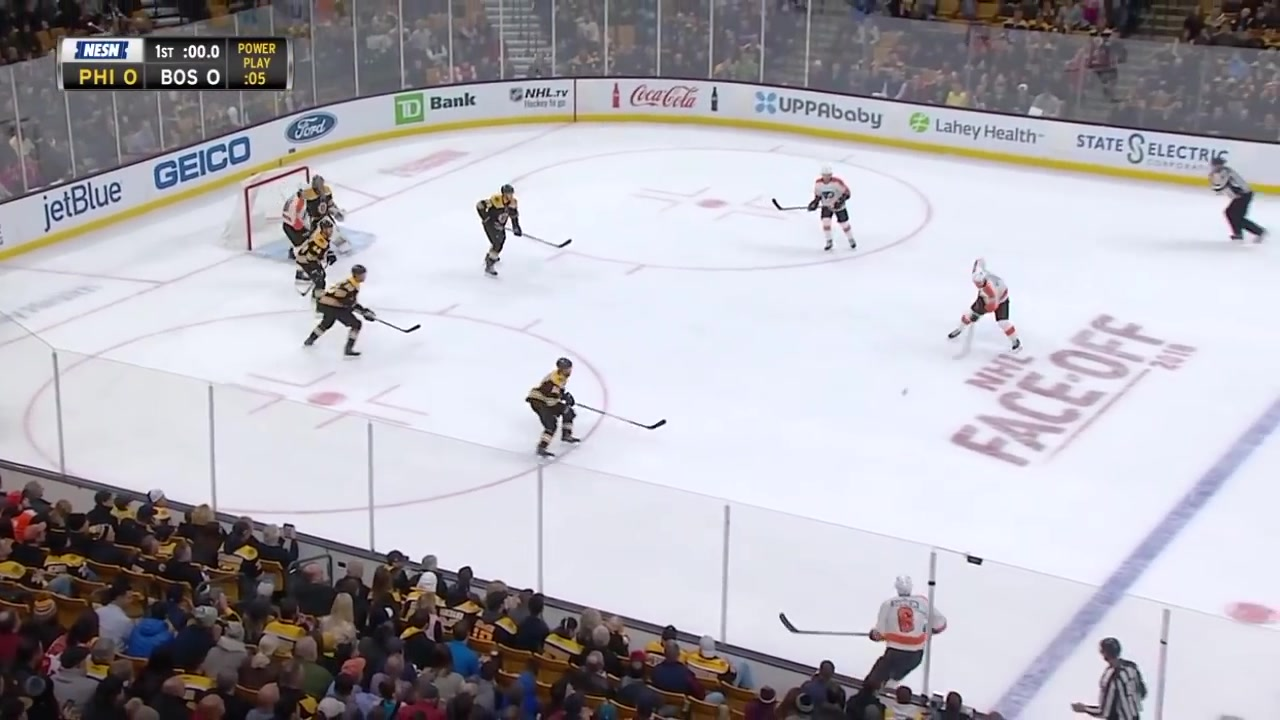Geico: (150, 130, 261, 196)
